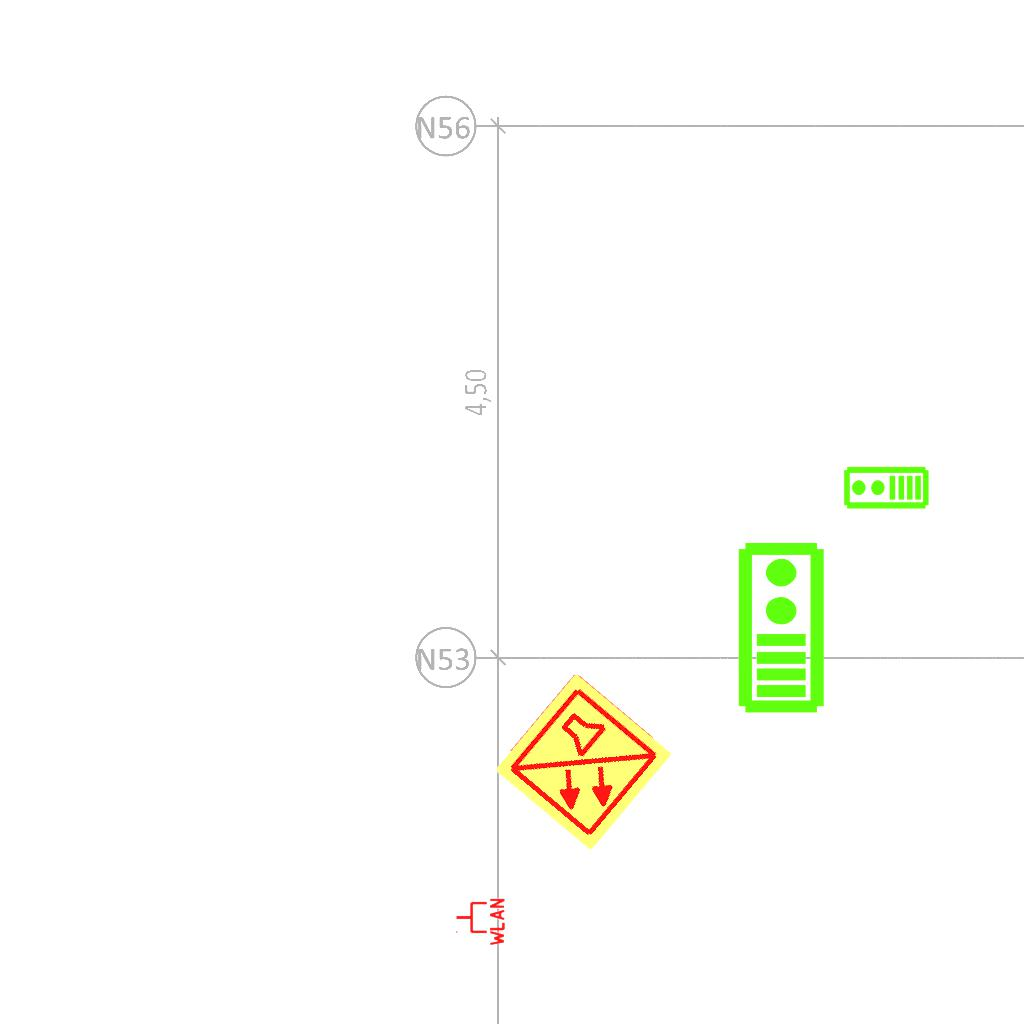Gegensprechanlage_mit_Video: (732, 539, 827, 715), (842, 465, 930, 512)
OKW_Multisensormelder_(Kombination_optischer_Rauch-Kahlenmonoxid_Waerme-Melder): (490, 669, 676, 855)
WLAN: (454, 896, 506, 948)
